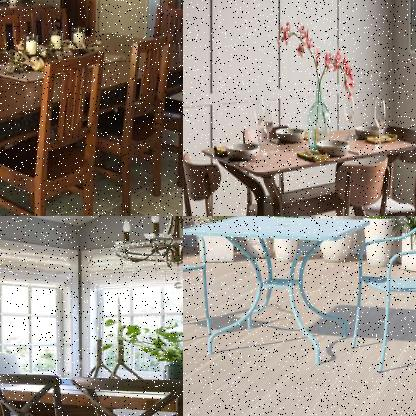table: (0, 27, 182, 215), (183, 216, 373, 367), (206, 114, 415, 215), (0, 369, 182, 415)
